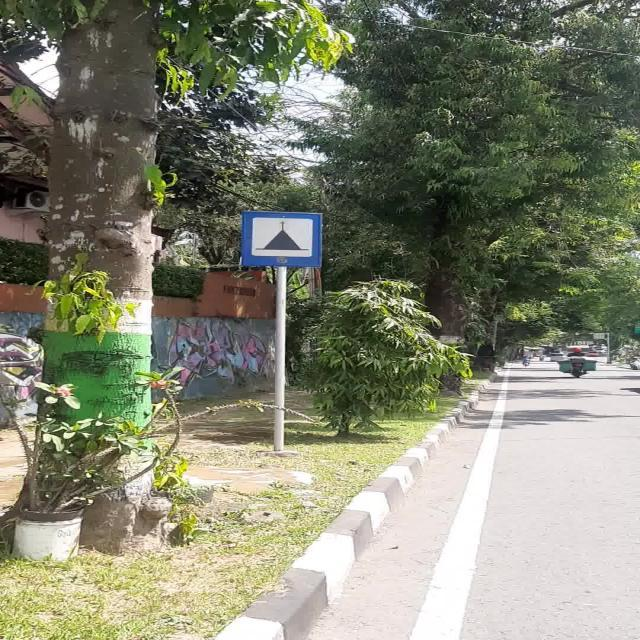Gereja: (242, 211, 322, 267)
